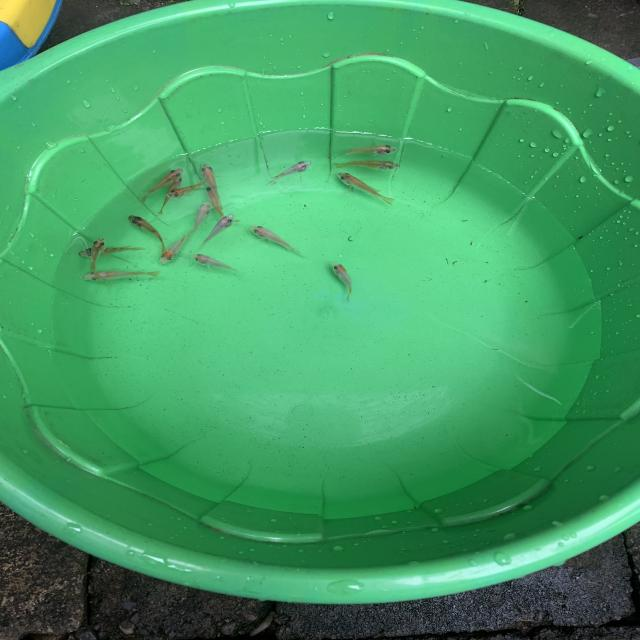nila: (125, 212, 173, 261), (332, 170, 397, 206), (134, 164, 190, 204), (245, 222, 308, 256), (198, 213, 242, 255), (73, 240, 157, 262), (198, 157, 234, 208), (73, 268, 168, 287), (186, 250, 247, 276), (329, 140, 402, 161), (162, 173, 212, 202), (156, 170, 186, 218), (156, 228, 194, 265), (202, 182, 233, 226), (264, 160, 316, 185), (82, 234, 108, 280), (329, 258, 356, 302), (329, 159, 409, 173), (187, 198, 214, 238)
